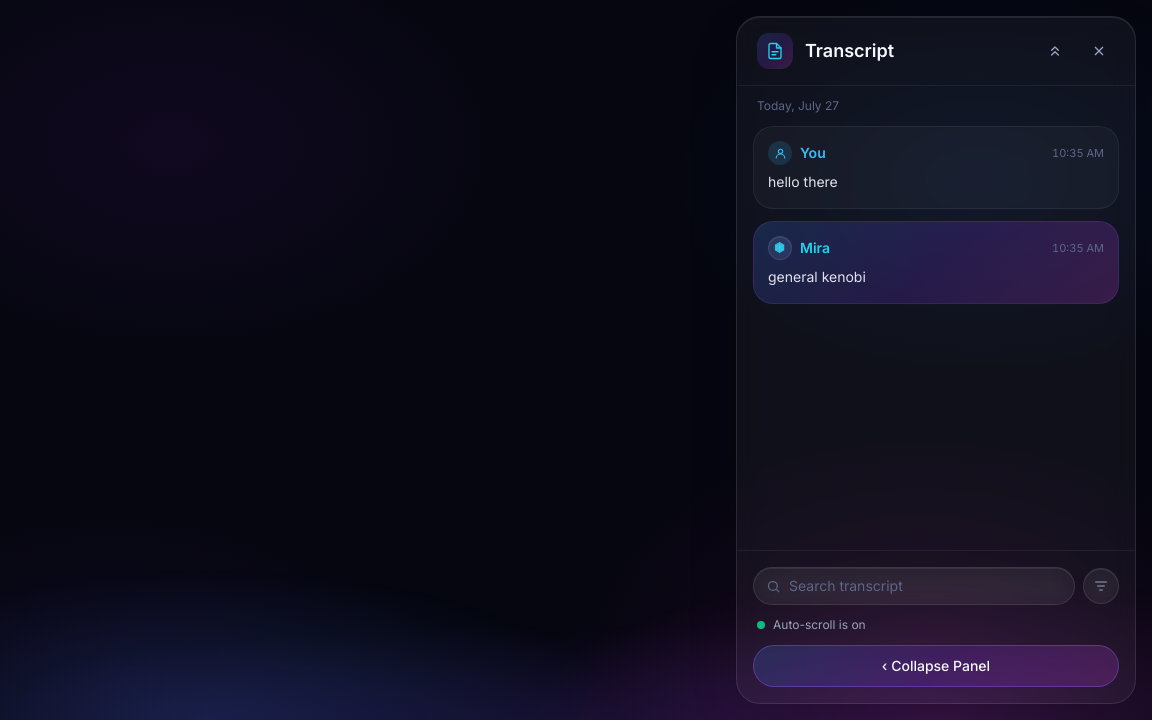
Test case: ChatTranscript › filters messages by the search box
The image size is (1152, 720).
Type "kenobi" into the field with placeholder "Search transcript" at (926, 586), box [789,576,1062,596]
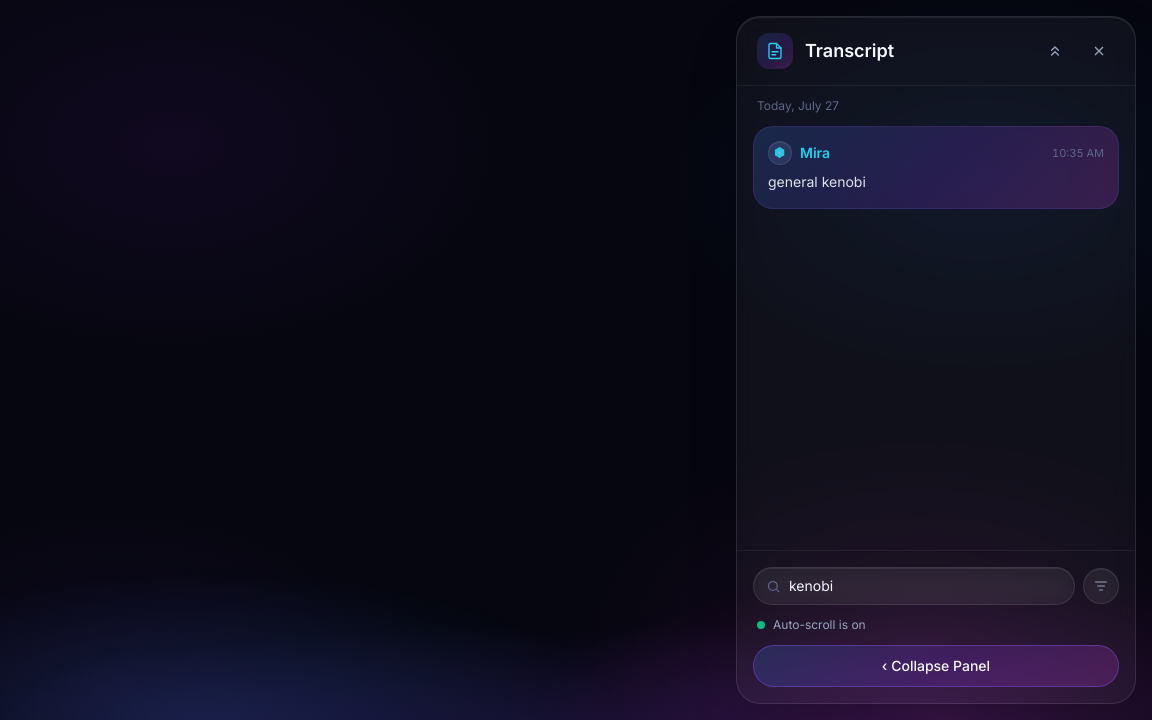
Expected: the text "general kenobi" is shown, [768,173,866,190]
Result: the text "hello there" is gone
